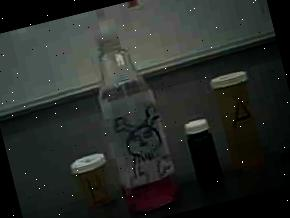Bottle A: (202, 61, 274, 182)
Bottle B: (60, 137, 122, 216)
Bottle C: (178, 110, 229, 188)
hazard: (68, 0, 194, 218)
